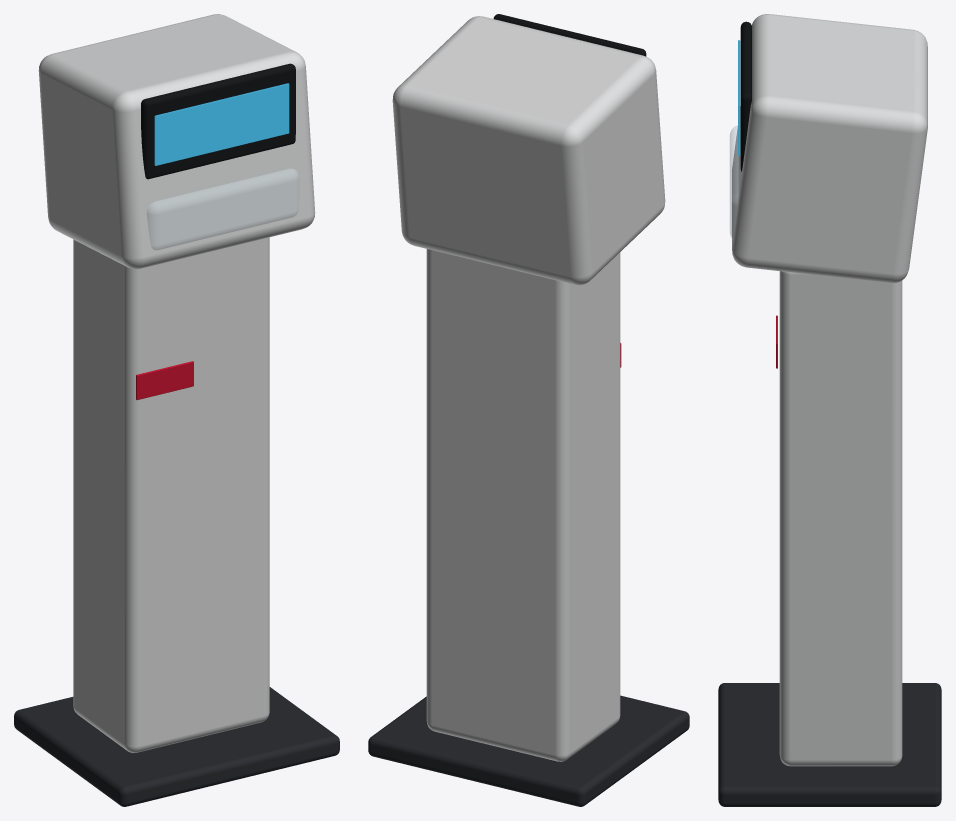
The model's file is nuv-h.glb.
3 views of the same model, side by side, from view 1: azimuth 30°, elevation 25°; view 2: azimuth 150°, elevation 25°; view 3: azimuth 270°, elevation 25° (orthographic). The views are drawn at different scales.
Size of the model in its own units: 0.46 by 1.38 by 0.4.
